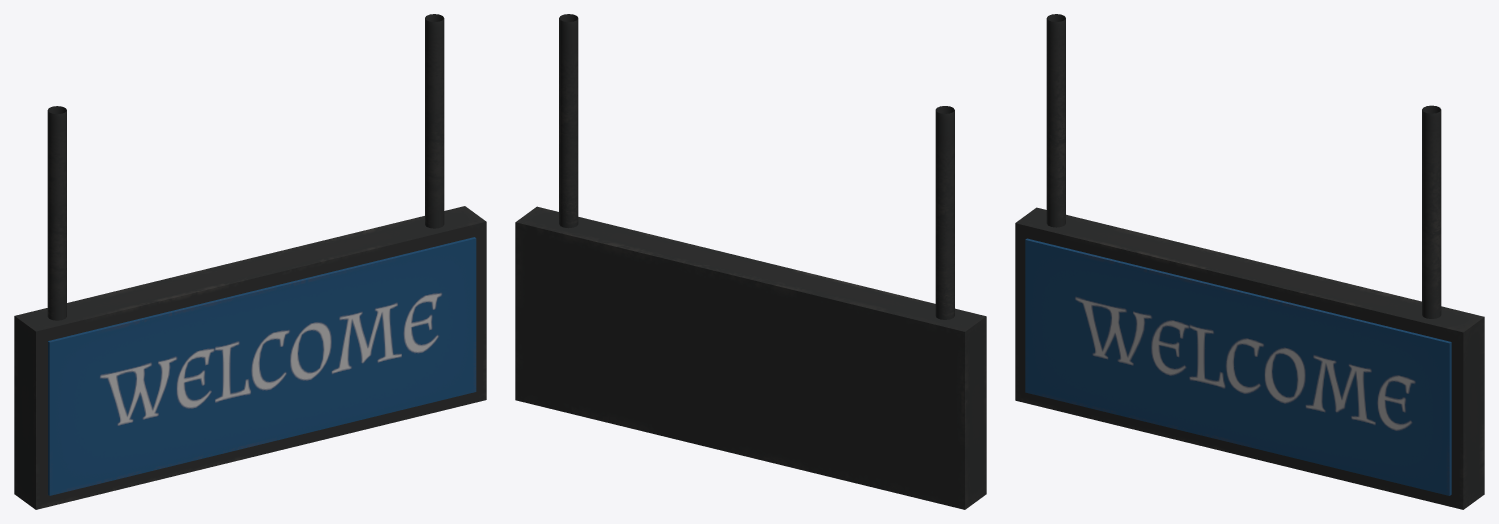
The model's file is SignboardWLCM.fbx.
The picture shows the model from 3 angles, left to right: view 1: azimuth 30°, elevation 25°; view 2: azimuth 150°, elevation 25°; view 3: azimuth 330°, elevation 25°; orthographic projection.
Parts seen in each view (by area): view 1: SignboardWLCM; view 2: SignboardWLCM; view 3: SignboardWLCM.
Part boxes in pixels (left/top/right/bottom): SignboardWLCM: left=14, top=14, right=486, bottom=509; SignboardWLCM: left=515, top=14, right=986, bottom=509; SignboardWLCM: left=1015, top=14, right=1484, bottom=509.
Size of the model in its own units: 181 by 148 by 16.25.
